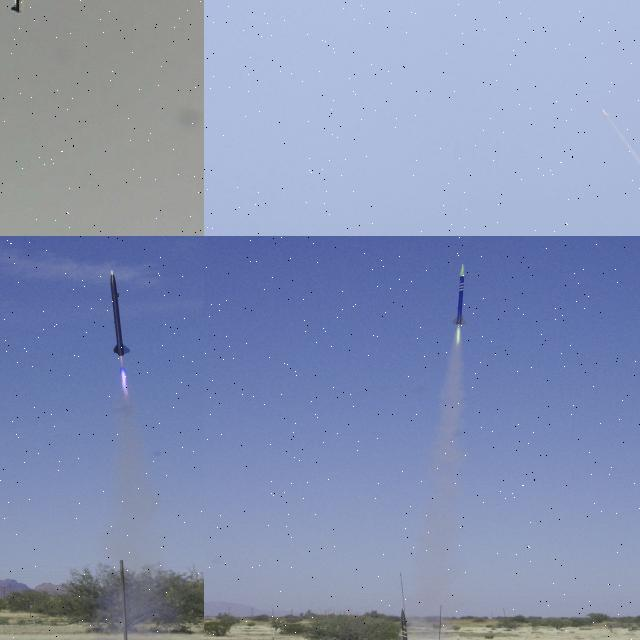Rocket: (109, 269, 131, 357), (452, 263, 468, 325), (399, 609, 414, 640), (10, 0, 28, 13), (602, 109, 609, 116)
